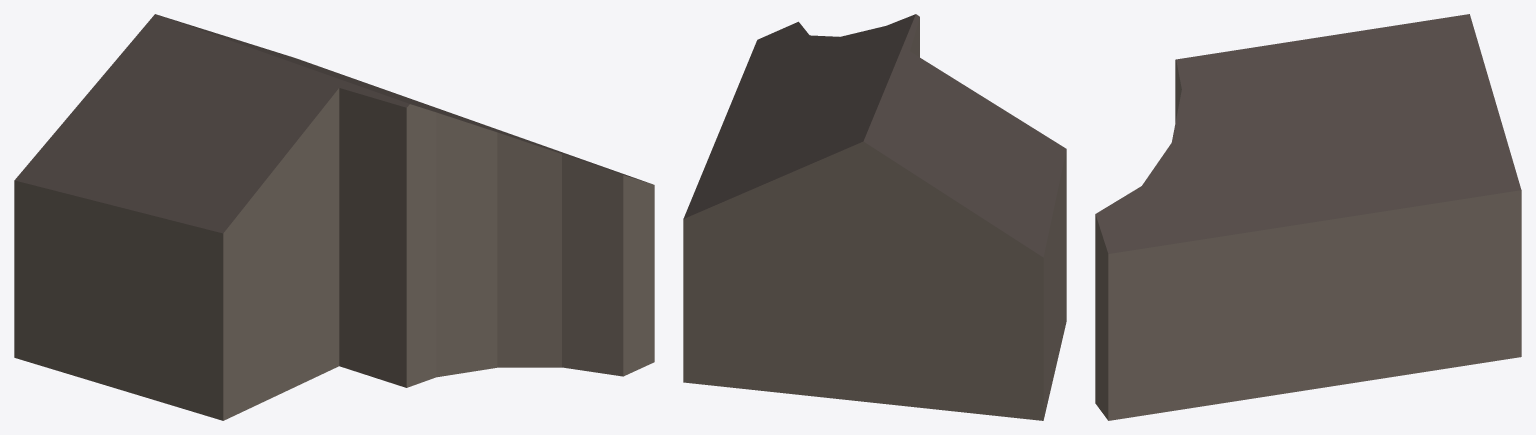
The picture shows the model from 3 angles, left to right: view 1: azimuth 30°, elevation 25°; view 2: azimuth 150°, elevation 25°; view 3: azimuth 270°, elevation 25°; orthographic projection. The views are drawn at different scales.
Visible parts, largest first — view 1: HP-w1516161914; view 2: HP-w1516161914; view 3: HP-w1516161914.
Boxes of the visible parts, bbox=[...] form: HP-w1516161914: bbox=[14, 14, 654, 420]; HP-w1516161914: bbox=[683, 14, 1066, 420]; HP-w1516161914: bbox=[1095, 14, 1521, 420].
Bounding box in the file's own units: 25.24 × 14.34 × 20.82.
